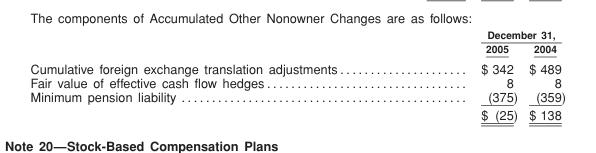table: (29, 28, 565, 121)
table column: (29, 28, 408, 121), (408, 28, 522, 121), (522, 28, 565, 121)
table column header: (29, 28, 565, 57)
table row: (29, 57, 565, 75), (29, 41, 565, 57), (29, 89, 565, 105), (29, 105, 565, 121), (29, 75, 565, 89), (29, 28, 565, 41)
table spanning cell: (408, 28, 565, 41)
